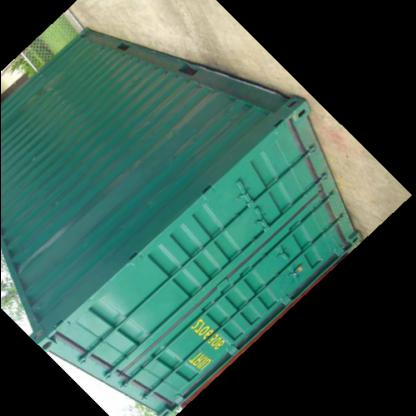Damage: (172, 95, 253, 167), (16, 212, 82, 274), (104, 50, 145, 90), (30, 70, 60, 107), (22, 146, 46, 168)
